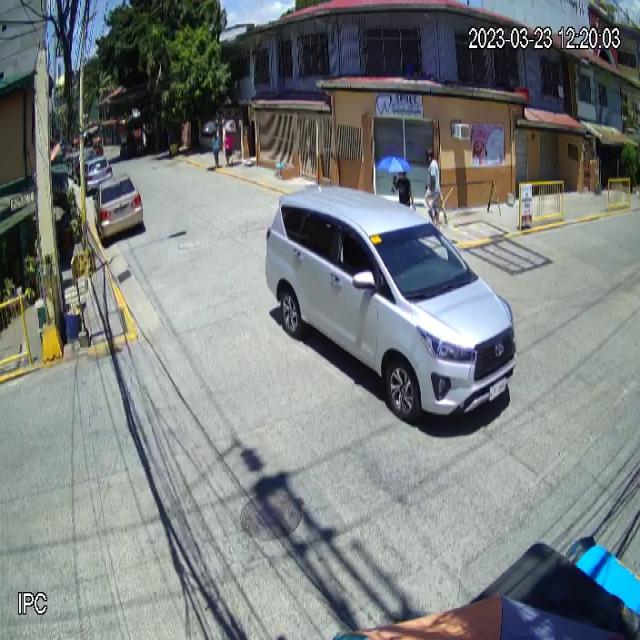Car: (261, 180, 518, 431)
